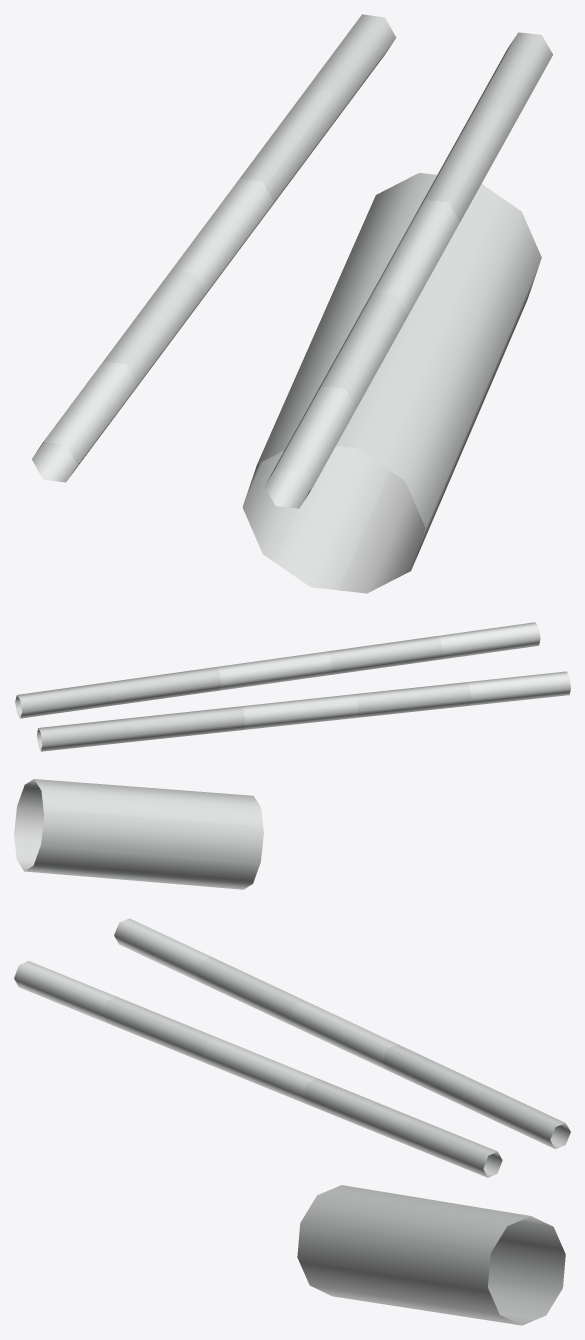
The model's file is nycsignalarm_diagonal12_c24.obj.
3 renders of one model, top to bottom at view 1: azimuth 30°, elevation 25°; view 2: azimuth 150°, elevation 25°; view 3: azimuth 270°, elevation 25°, orthographic. The views are drawn at different scales.
Visible parts, largest first — view 1: nycsignalarm_diagonal12_c24; view 2: nycsignalarm_diagonal12_c24; view 3: nycsignalarm_diagonal12_c24.
Boxes of the visible parts, box(x1,y1,x2,y2) form: nycsignalarm_diagonal12_c24: box(32, 14, 552, 593); nycsignalarm_diagonal12_c24: box(14, 622, 570, 889); nycsignalarm_diagonal12_c24: box(14, 918, 570, 1325).
Bounding box in the file's own units: 1.23 × 0.5733 × 1.23.
